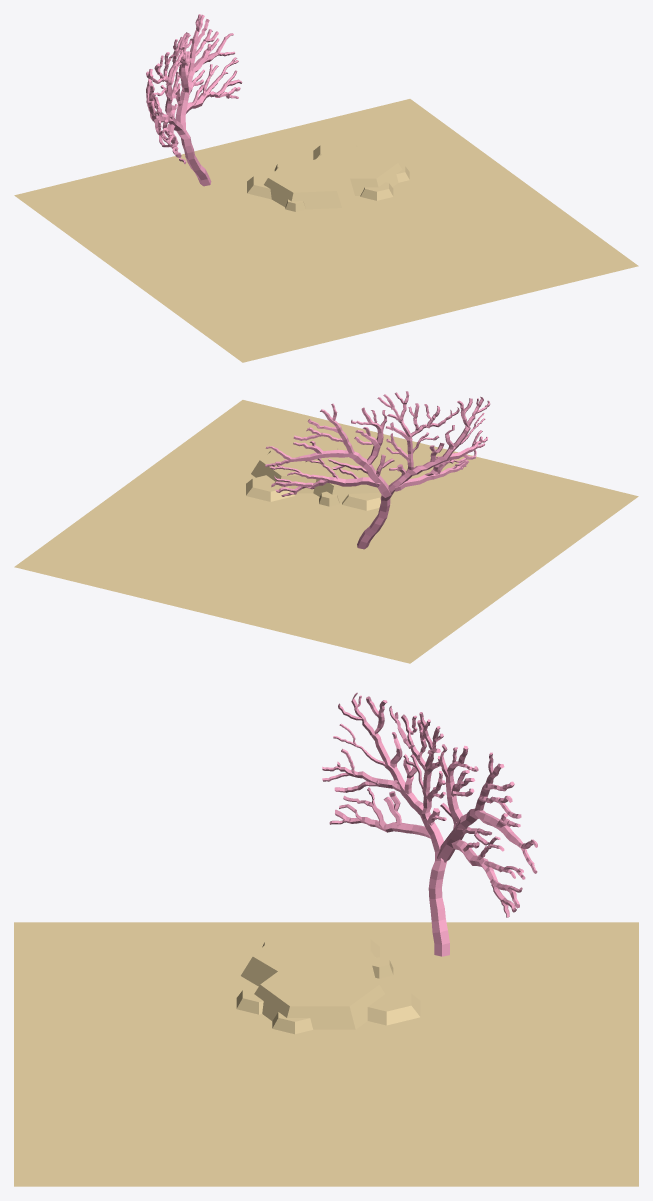
The model's file is reef.glb.
The picture shows the model from 3 angles, top to bottom: view 1: azimuth 30°, elevation 25°; view 2: azimuth 150°, elevation 25°; view 3: azimuth 270°, elevation 25°; orthographic projection. The views are drawn at different scales.
Visible parts, largest first — view 1: Plane, rockFlat, group1533979519; view 2: Plane, group1533979519, rockFlat; view 3: Plane, group1533979519, rockFlat.
Boxes of the visible parts, box(x1,y1,x2,y2) form: Plane: box(14, 99, 638, 362); rockFlat: box(247, 141, 409, 211); group1533979519: box(146, 14, 242, 186); Plane: box(14, 400, 638, 663); group1533979519: box(265, 391, 490, 549); rockFlat: box(246, 444, 401, 510); Plane: box(14, 922, 638, 1186); group1533979519: box(322, 692, 537, 956); rockFlat: box(236, 931, 420, 1034).
Bounding box in the file's own units: 4.92 × 2.3 × 4.92.
